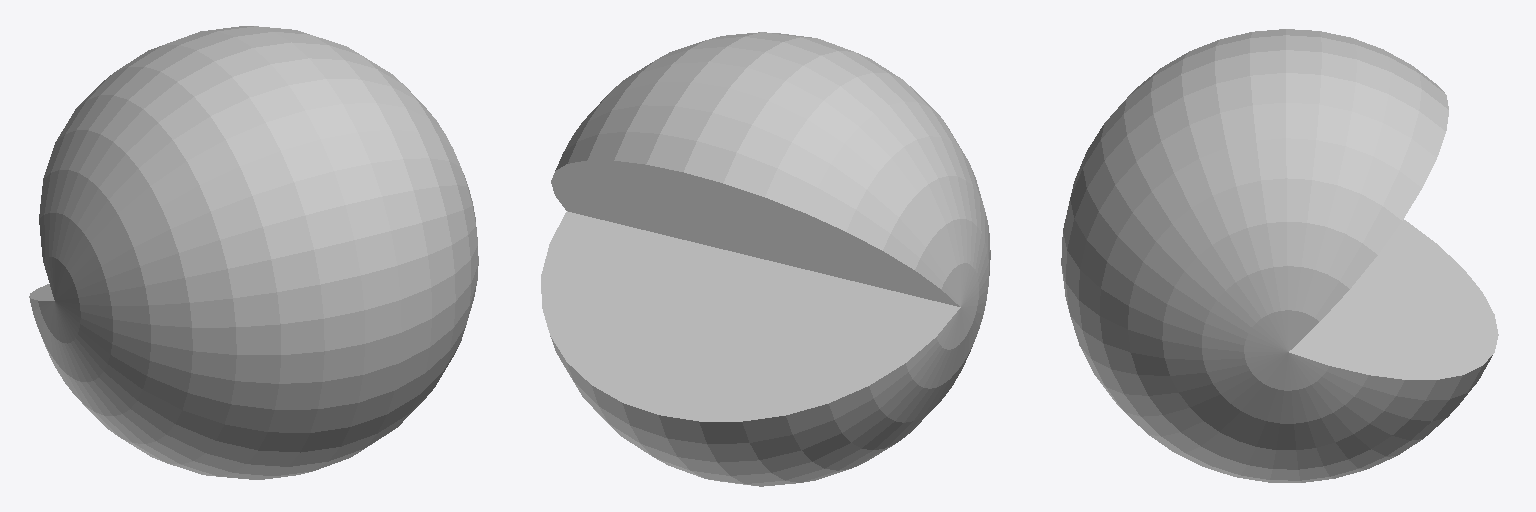
The model's file is pacman.obj.
The picture shows the model from 3 angles: view 1: azimuth 30°, elevation 25°; view 2: azimuth 150°, elevation 25°; view 3: azimuth 270°, elevation 25°; orthographic projection.
Visible parts, largest first — view 1: Object002; view 2: Object002; view 3: Object002.
Part boxes in pixels (x1,y1,x2,y2): Object002: (29, 26, 478, 479); Object002: (541, 32, 990, 486); Object002: (1061, 29, 1498, 482).
Size of the model in its own units: 4 by 4 by 3.85.